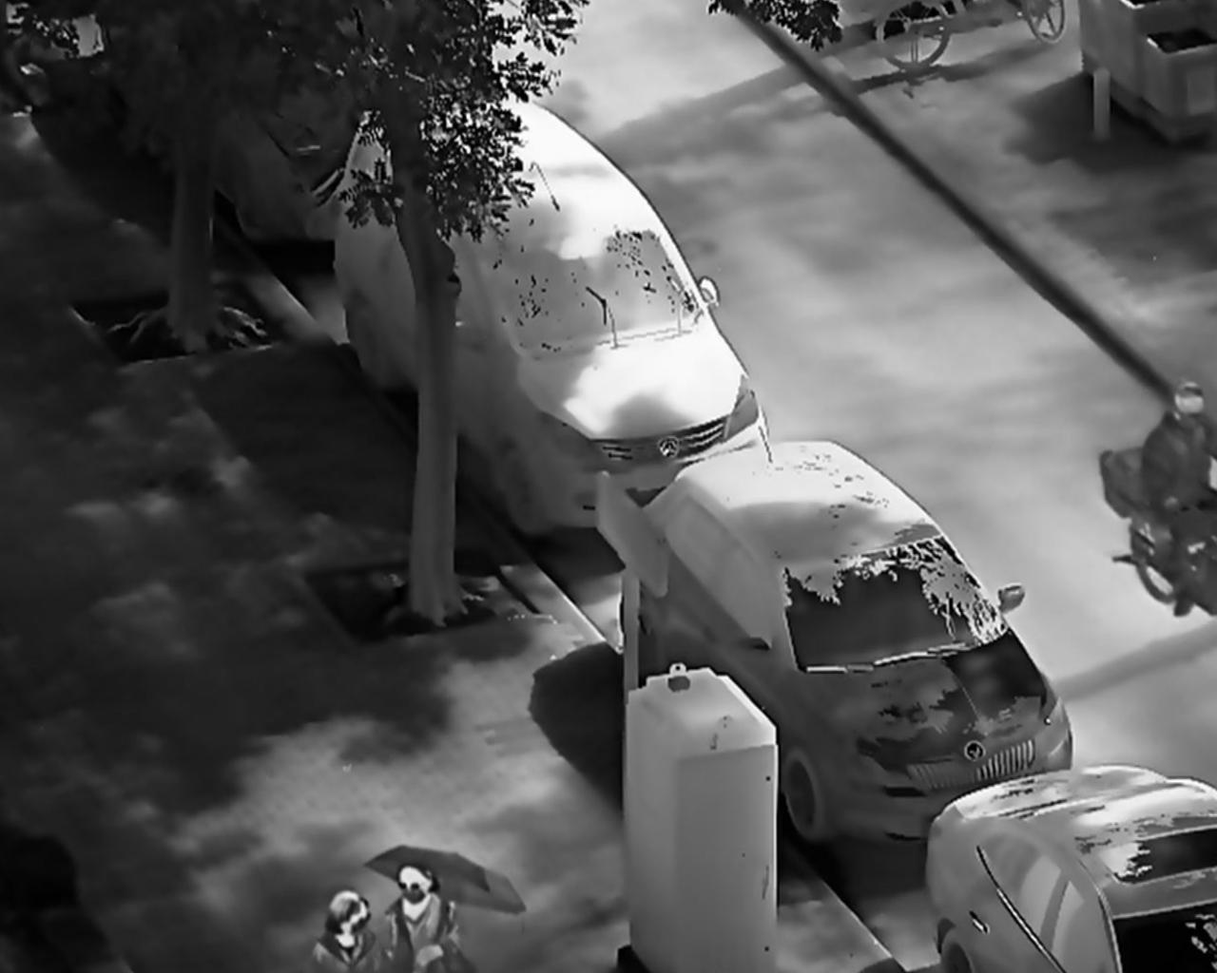person: (1140, 375, 1217, 620), (375, 858, 468, 971), (309, 887, 385, 969)
